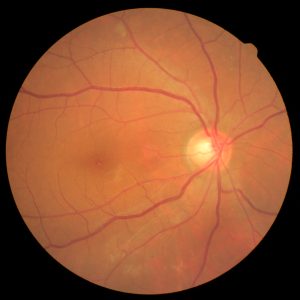glaucoma: (82, 96, 265, 217)
